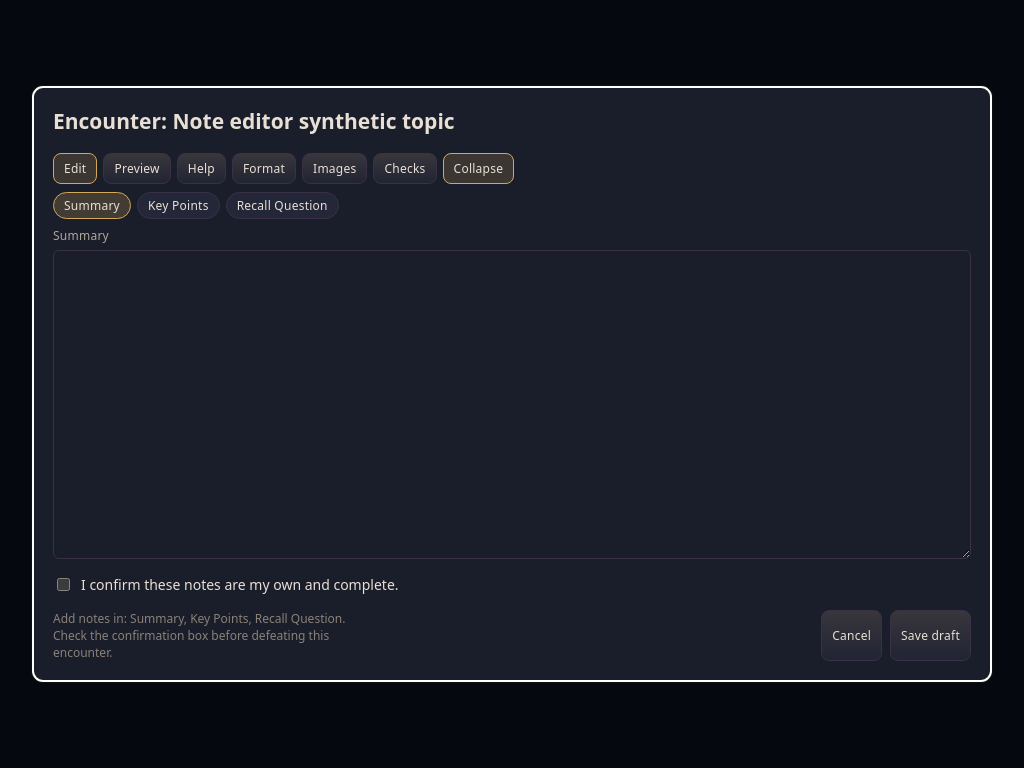
it: Phase 4 note editor: a picked image is stored on this device › writes the bytes locally, attaches them as a local attachment, and makes no request
Click the button "Images": (335, 168) [302,152,368,184]
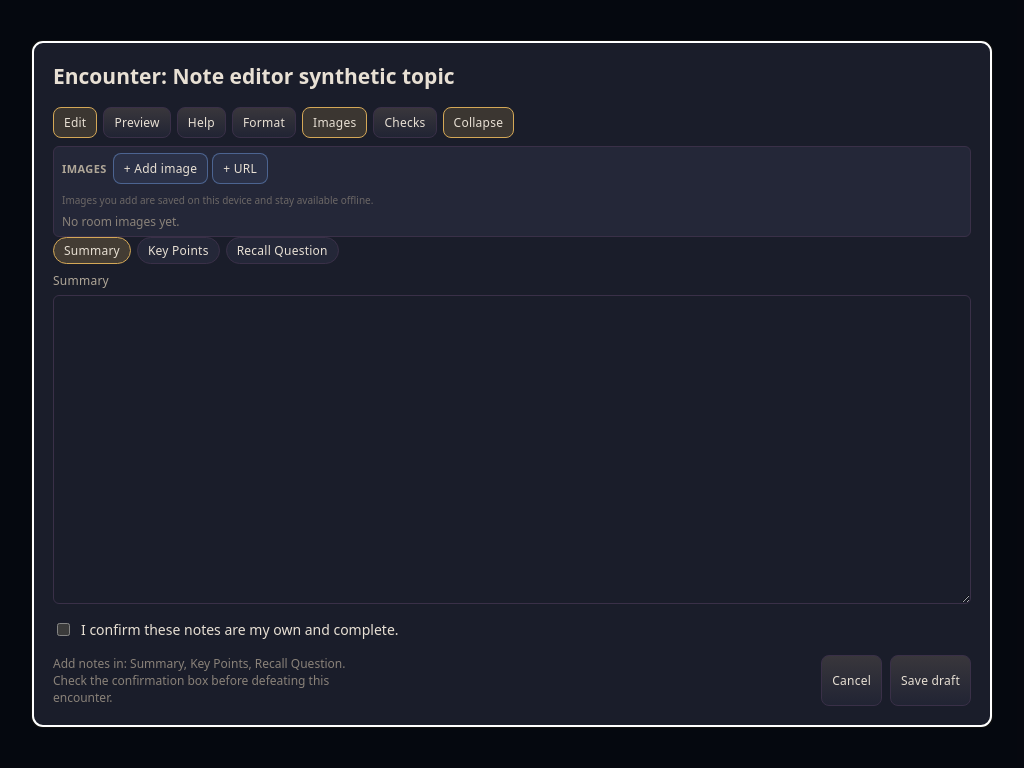
Expected: the element showing "+ Add image + URL" is shown, [113,153,268,184]
